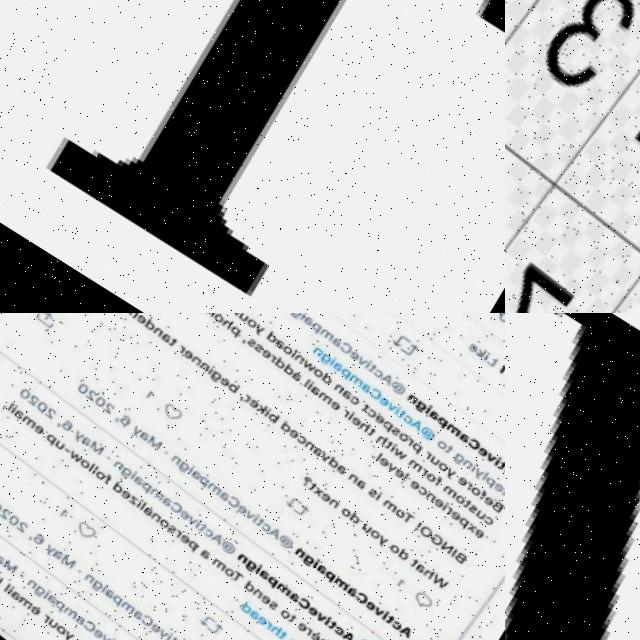0: (71, 379, 87, 395), (13, 384, 29, 400), (30, 397, 46, 412), (1, 510, 16, 526), (89, 392, 103, 407), (493, 313, 505, 322)
1: (495, 361, 505, 375), (141, 388, 152, 399), (391, 576, 401, 586), (54, 506, 64, 516)
2: (608, 35, 640, 194), (97, 398, 113, 414), (39, 403, 55, 419), (9, 517, 25, 533), (23, 390, 37, 406), (80, 387, 95, 401), (0, 504, 7, 520)
3: (513, 0, 640, 111)
6: (55, 416, 72, 432), (114, 412, 129, 426), (27, 530, 42, 544)
7: (505, 248, 582, 313)
D: (505, 313, 640, 640)
T: (0, 0, 505, 313)
